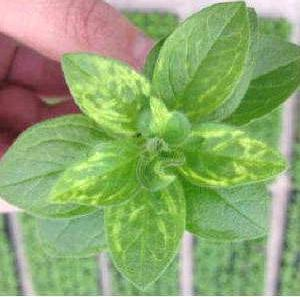Tomato leaf mosaic virus: (149, 6, 250, 118), (107, 153, 190, 289), (47, 134, 152, 207), (175, 124, 291, 189)
